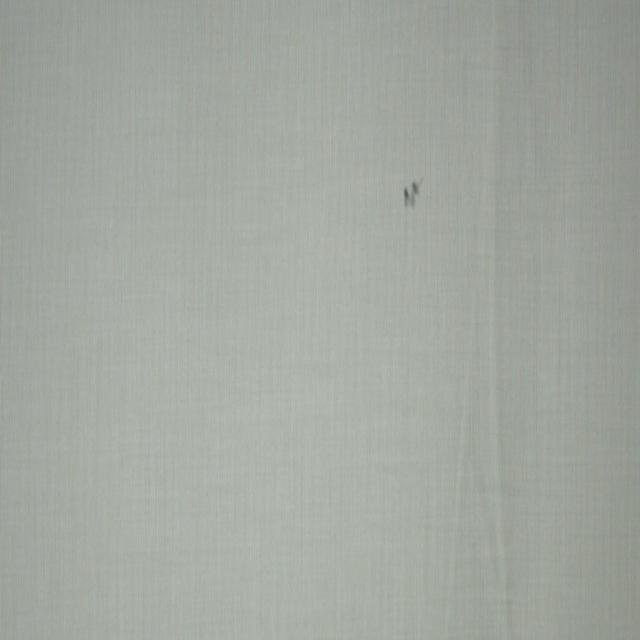dirty: (403, 180, 421, 208)
